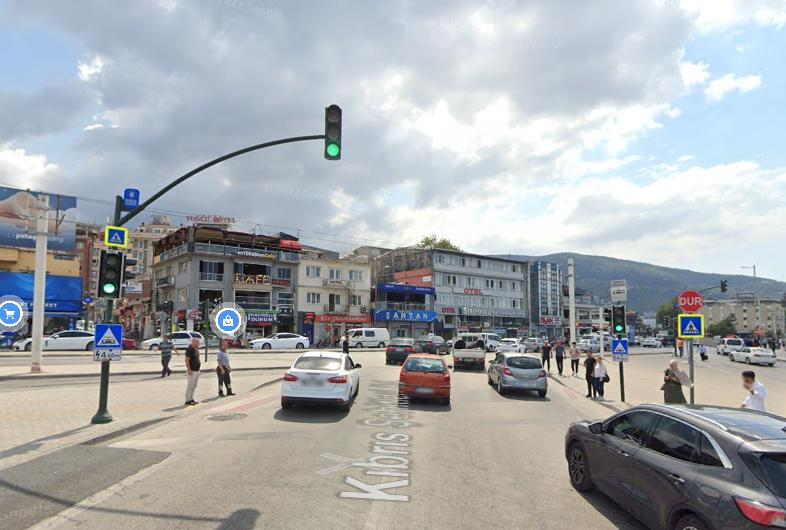greenlight: (97, 249, 121, 298), (323, 103, 342, 160), (612, 304, 626, 335)
stop: (678, 291, 701, 313)
